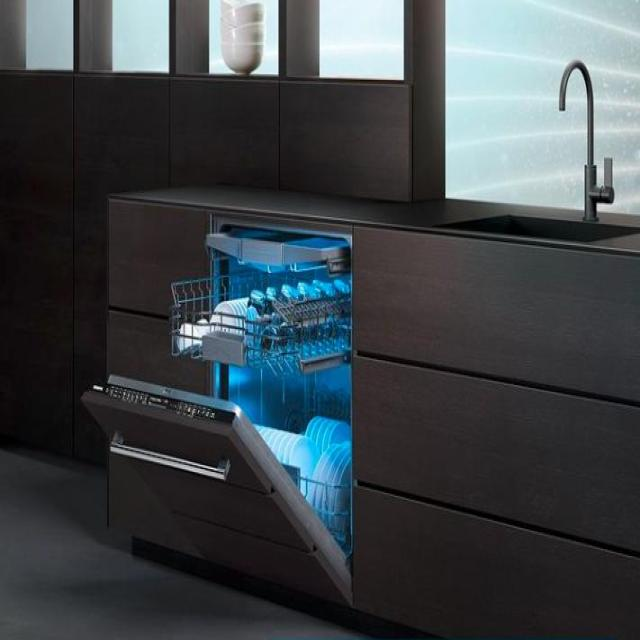dishwasher: (80, 213, 353, 608)
